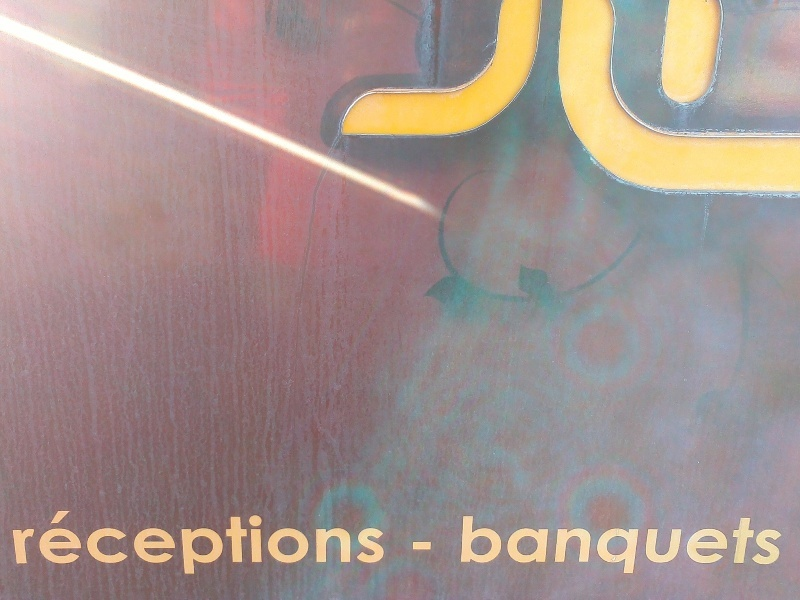text: (353, 2, 368, 199), (369, 2, 384, 199), (385, 2, 400, 199), (401, 2, 416, 199), (417, 2, 432, 199), (433, 2, 448, 199), (449, 2, 464, 199), (465, 2, 480, 199), (481, 2, 496, 199), (497, 2, 512, 199), (513, 2, 528, 199), (529, 2, 544, 199), (545, 2, 560, 199), (561, 2, 576, 199), (577, 2, 592, 199), (593, 2, 608, 199), (609, 2, 624, 199), (625, 2, 640, 199), (641, 2, 656, 199), (657, 2, 672, 199), (673, 2, 688, 199), (689, 2, 704, 199), (705, 2, 720, 199), (721, 2, 736, 199), (737, 2, 752, 199), (753, 2, 768, 199), (769, 2, 784, 199), (338, 2, 352, 199), (785, 2, 798, 199), (17, 505, 32, 576), (33, 505, 48, 576), (49, 505, 64, 576), (65, 505, 80, 576), (81, 505, 96, 576), (97, 505, 112, 576), (113, 505, 128, 576), (129, 505, 144, 576), (145, 505, 160, 576), (161, 505, 176, 576), (177, 505, 192, 576), (193, 505, 208, 576), (209, 505, 224, 576), (225, 505, 240, 576), (241, 505, 256, 576), (257, 505, 272, 576), (273, 505, 288, 576), (289, 505, 304, 576), (305, 505, 320, 576), (321, 505, 336, 576), (337, 505, 352, 576), (353, 505, 368, 576), (369, 505, 384, 576), (465, 515, 480, 576), (481, 515, 496, 576), (497, 515, 512, 576), (513, 515, 528, 576), (529, 515, 544, 576), (545, 515, 560, 576), (561, 515, 576, 576), (577, 515, 592, 576), (593, 515, 608, 576), (609, 515, 624, 576), (625, 515, 640, 576), (641, 515, 656, 576), (657, 515, 672, 576), (673, 515, 688, 576), (689, 515, 704, 576), (705, 515, 720, 576), (721, 515, 736, 576), (737, 515, 752, 576), (753, 515, 768, 576), (769, 515, 784, 576), (11, 505, 16, 576), (417, 540, 432, 553), (409, 540, 416, 553), (385, 505, 386, 576), (463, 515, 464, 576), (433, 540, 435, 553)
